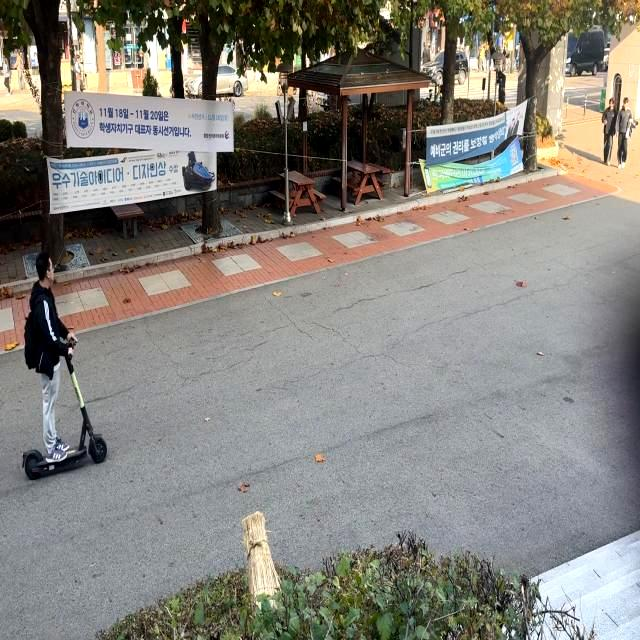bare_head: (31, 248, 70, 296)
human: (20, 241, 81, 456)
kickboard: (10, 437, 138, 475)
